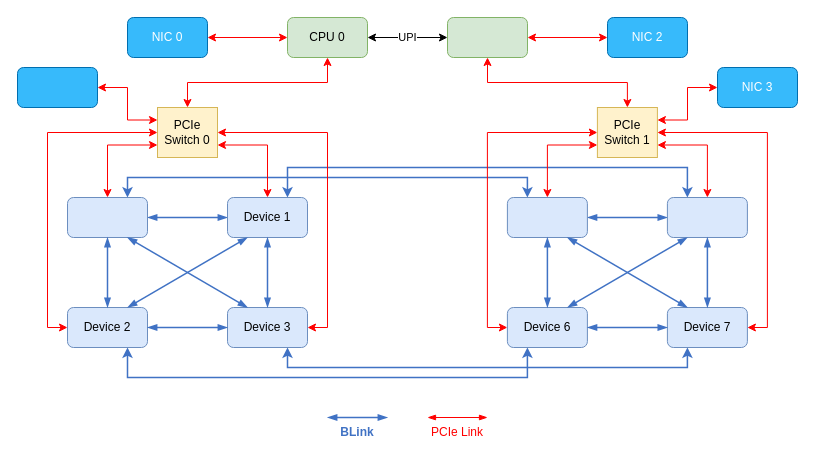
Some shapes in this 815 by 465 pixel diagram are drawn without their labels. The box of each missing label's shape, as (x1, y1, x2, y2) in pixels:
CPU 1: (446, 16, 528, 58)
Device 0: (66, 196, 148, 238)
Device 4: (506, 196, 587, 238)
Device 5: (666, 196, 747, 238)
NIC 1: (16, 66, 98, 108)
